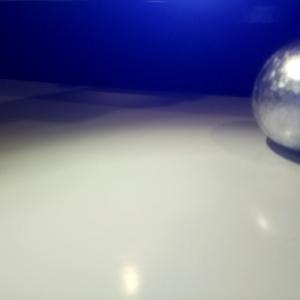alive_ball: (252, 43, 300, 152)
